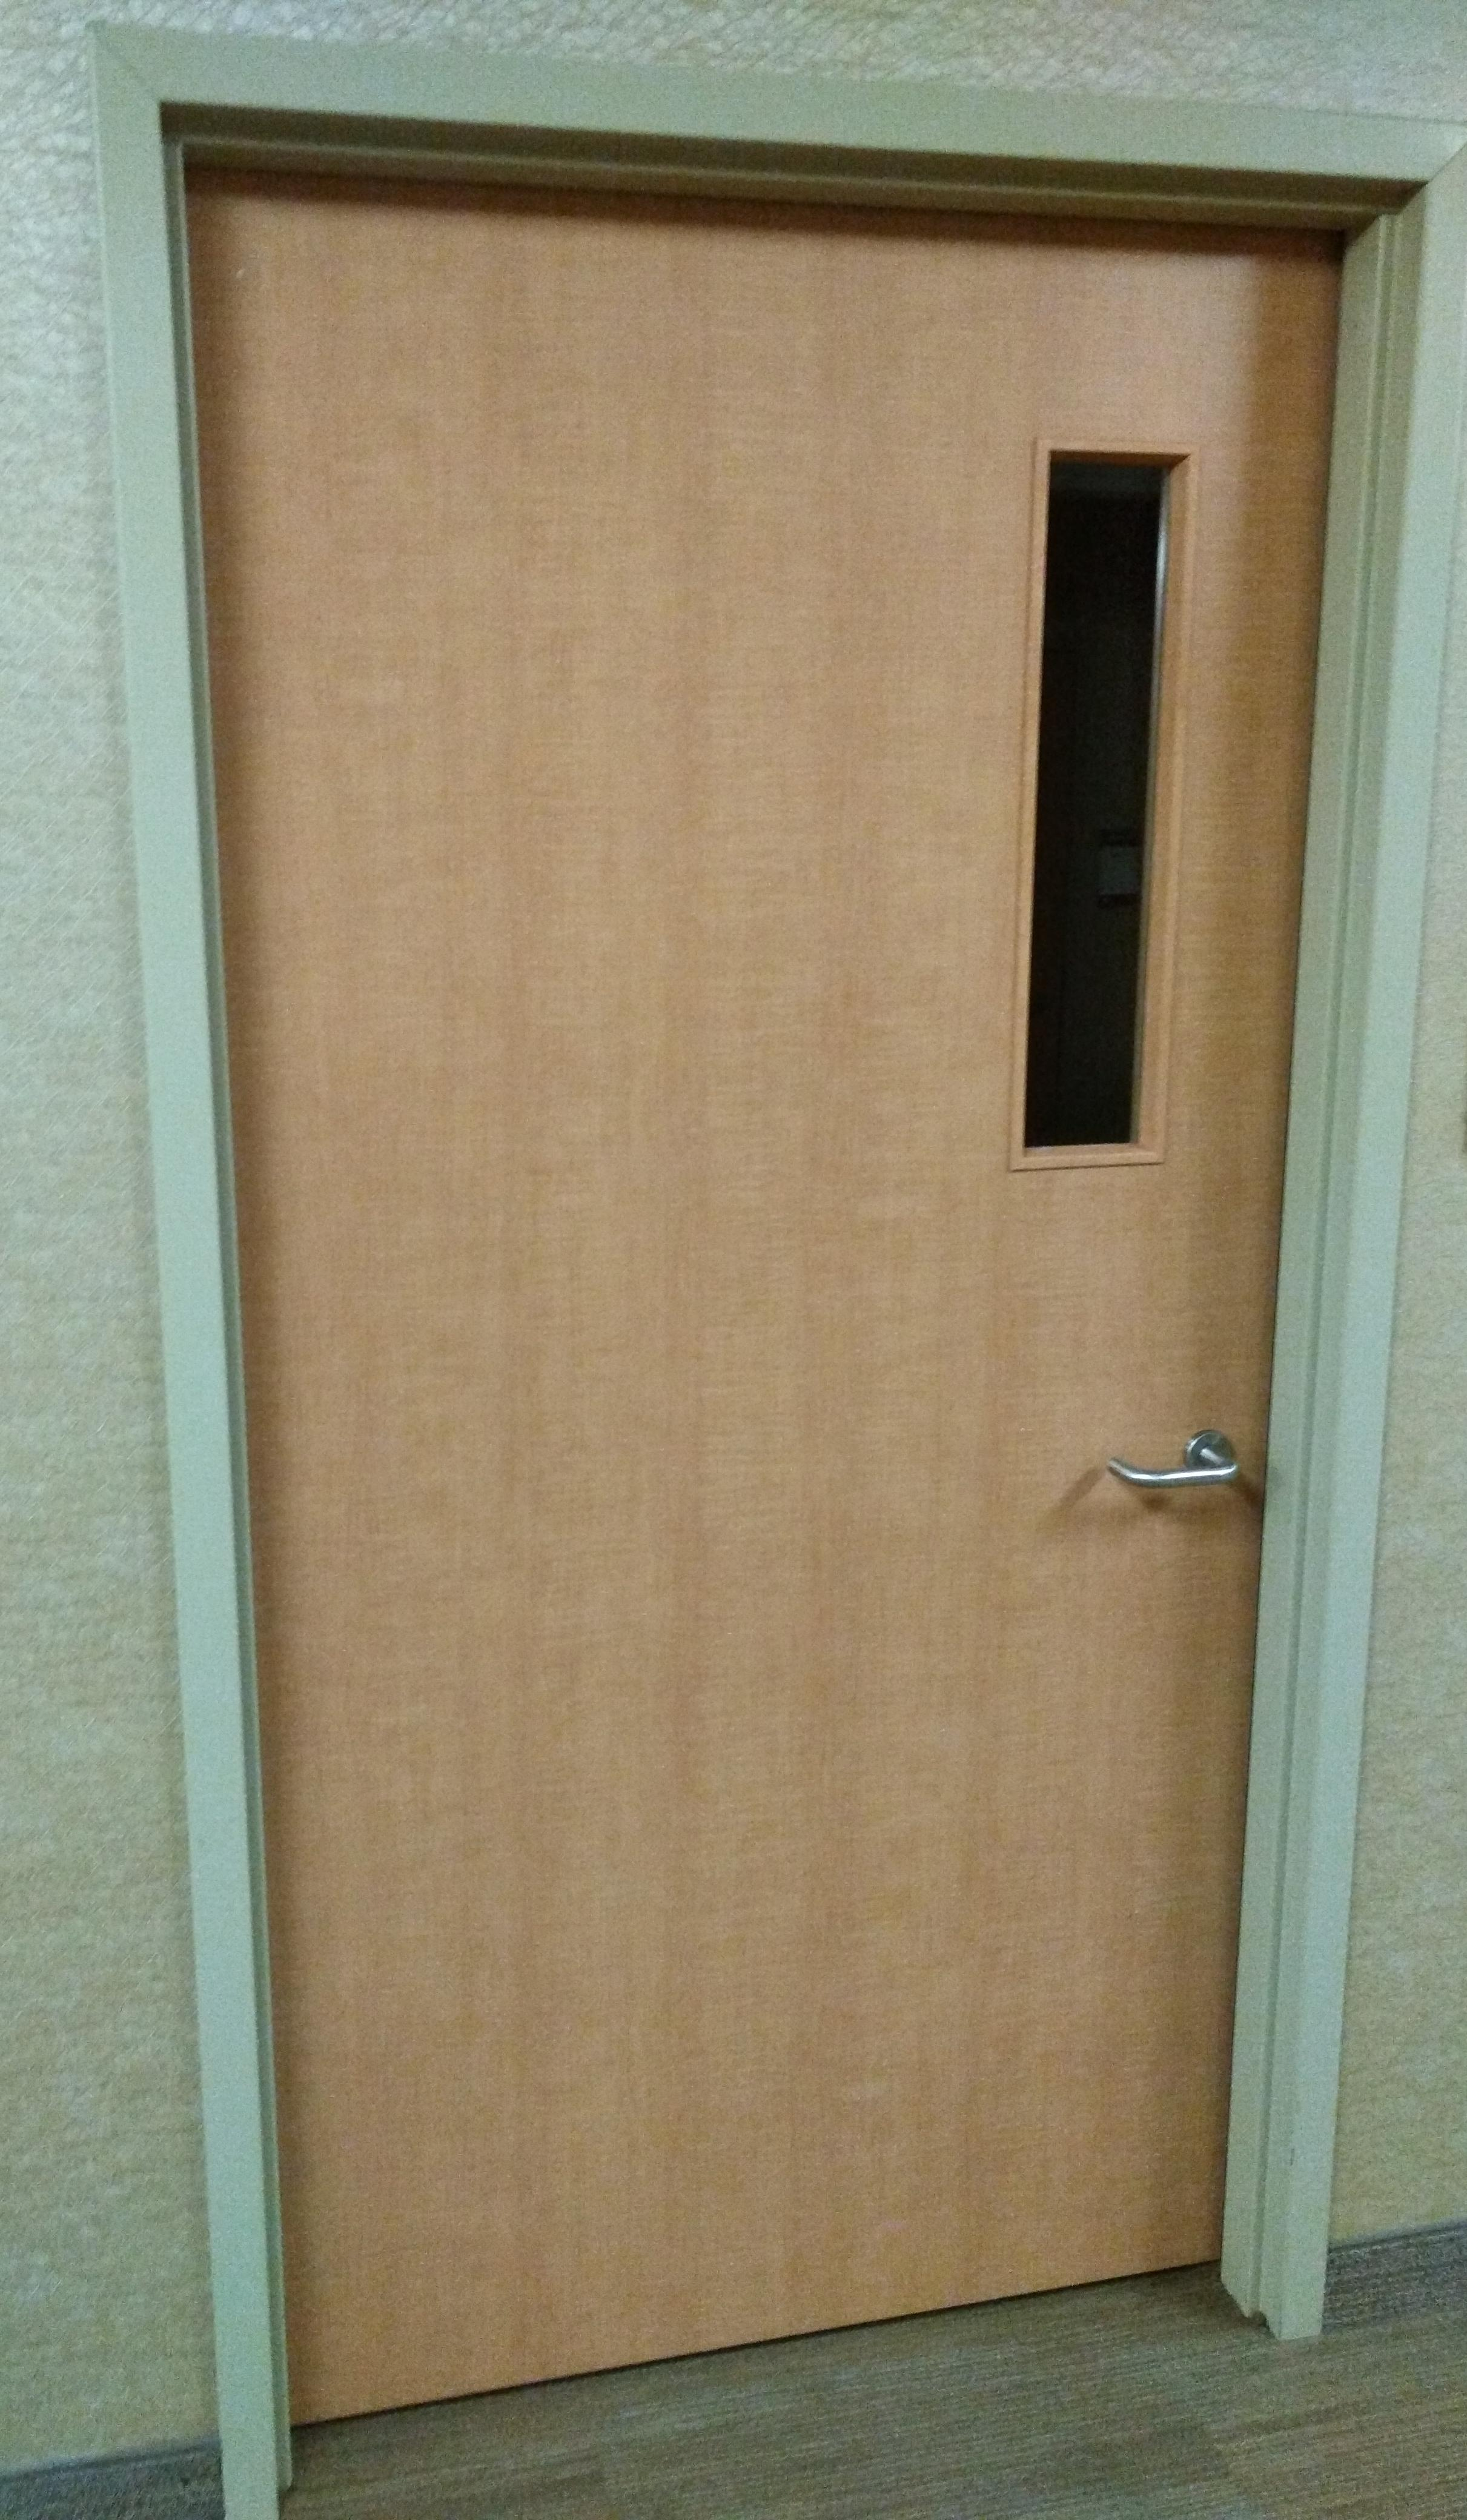door: (89, 14, 1380, 2426)
